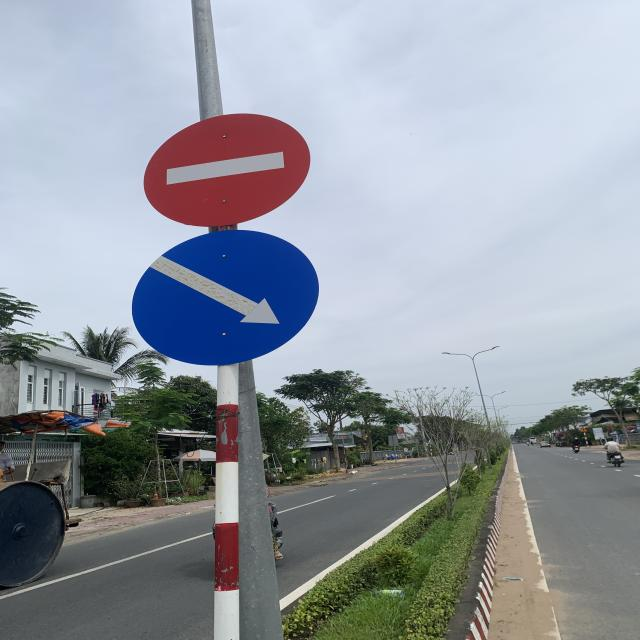Cam_Di_Nguoc_Chieu: (142, 113, 312, 228)
Chi_Huong_Di_Phai: (130, 228, 321, 367)
